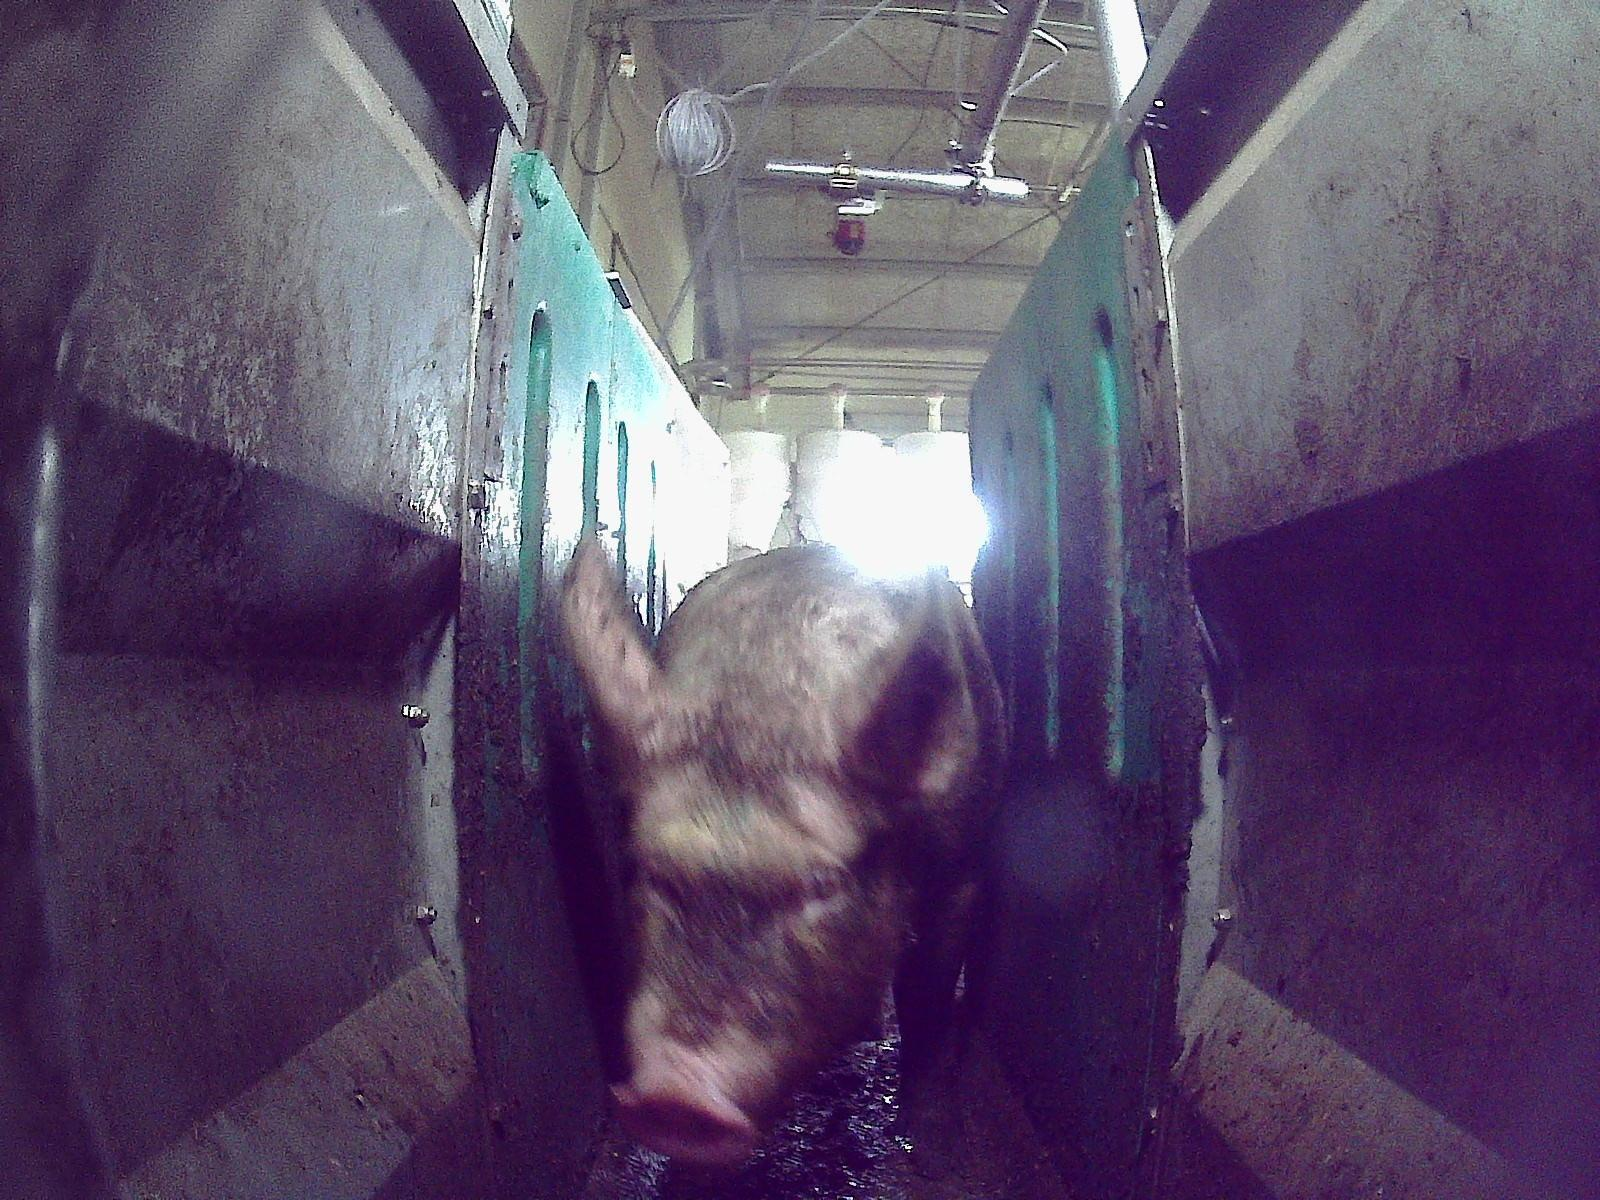Face: (605, 620, 913, 1177)
